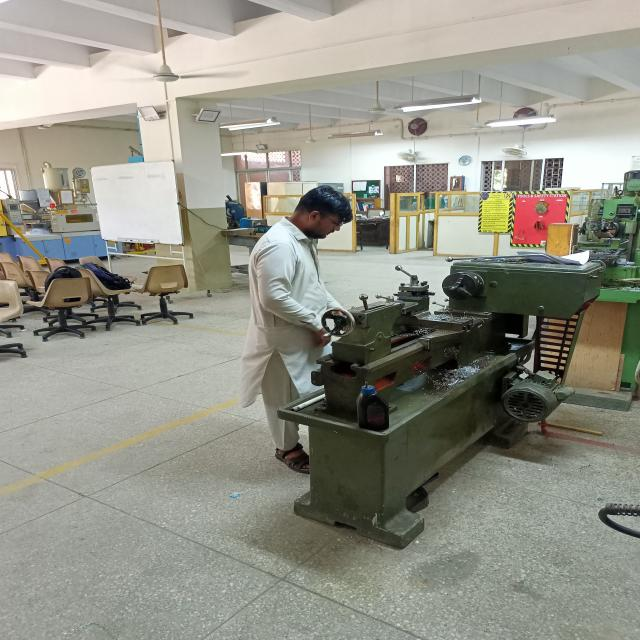dress: (242, 214, 349, 456)
